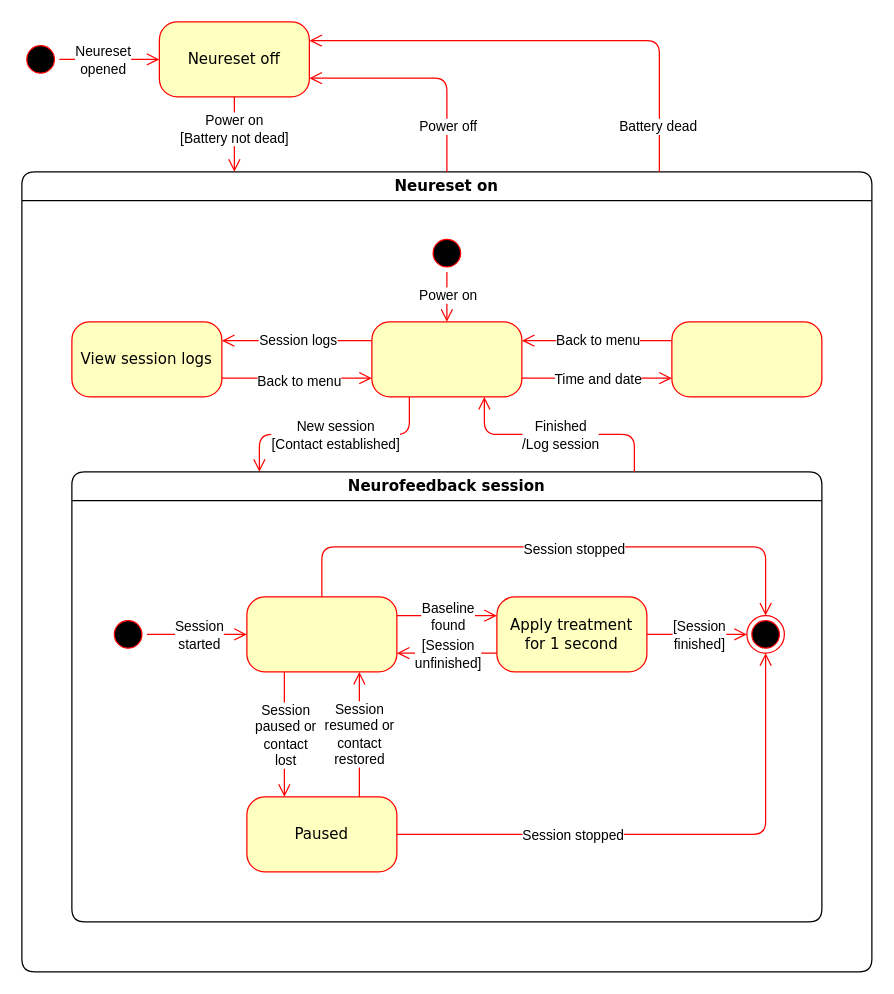
The diagram is 894 pixels wide and 994 high, and some of its shapes have lost their labels. The shapes that lost their labels are listed below. From the top down, each one's centre as x and y in pixels, then its label:
At (446,359): "Main menu".
At (746,359): "Set time and date".
At (321,634): "Find baseline for 5 seconds".
